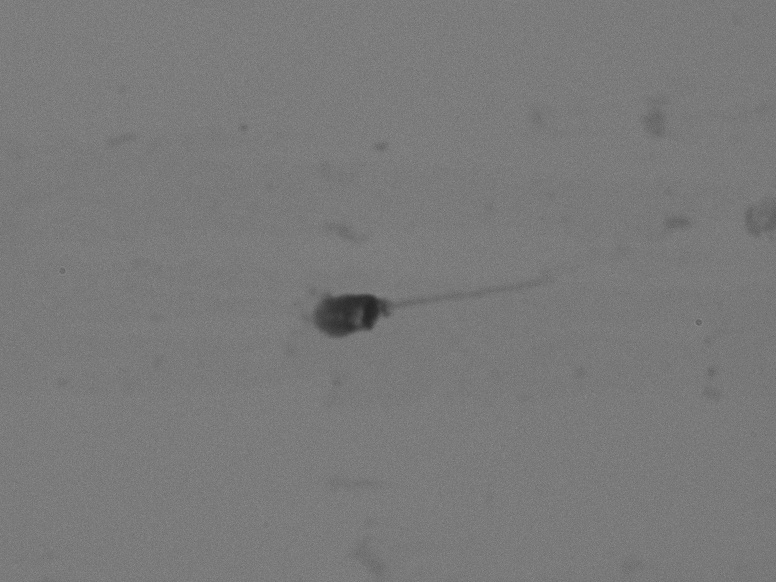Abnormal: (273, 183, 692, 392)
